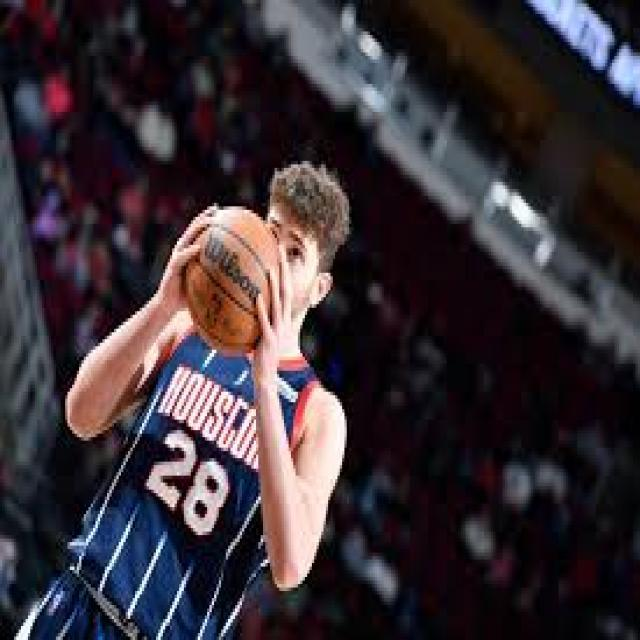rim: (186, 206, 279, 354)
